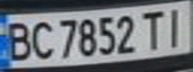2: (115, 11, 142, 56)
5: (96, 14, 121, 56)
7: (54, 16, 78, 60)
8: (75, 15, 100, 57)
B: (0, 18, 36, 62)
C: (24, 17, 57, 61)
I: (157, 3, 193, 48)
T: (136, 7, 169, 51)
